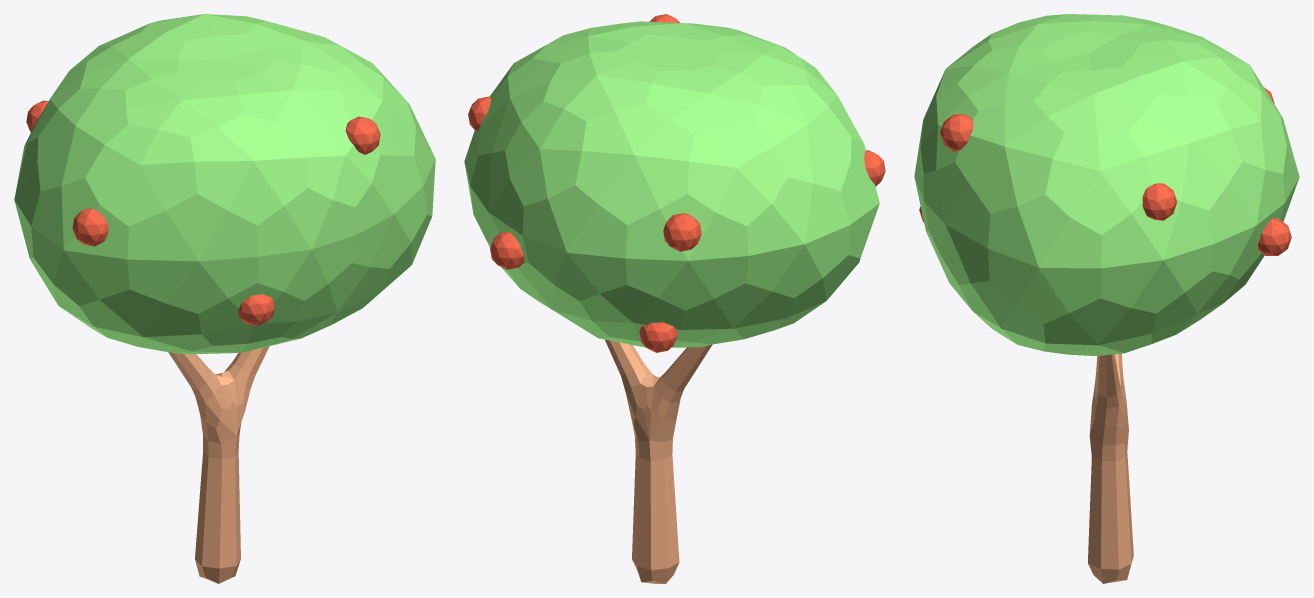
File: tree13.gltf
3 views of the same model, side by side, from view 1: azimuth 30°, elevation 25°; view 2: azimuth 150°, elevation 25°; view 3: azimuth 270°, elevation 25° (orthographic).
Parts seen in each view (by area): view 1: Icosphere, Cube, Icosphere.003, Icosphere.002, Icosphere.004; view 2: Icosphere, Cube, Icosphere.008, Icosphere.005, Icosphere.006, Icosphere.003; view 3: Icosphere, Cube, Icosphere.009, Icosphere.005, Icosphere.002.
Part boxes in pixels (x1,y1,x2,y2): Icosphere: (14, 14, 435, 354); Cube: (168, 346, 269, 583); Icosphere.003: (72, 208, 108, 246); Icosphere.002: (345, 116, 380, 154); Icosphere.004: (238, 294, 274, 325); Icosphere: (464, 21, 879, 347); Cube: (605, 339, 712, 583); Icosphere.008: (663, 213, 701, 251); Icosphere.005: (490, 232, 524, 269); Icosphere.006: (639, 322, 677, 352); Icosphere.003: (864, 150, 885, 186); Icosphere: (914, 14, 1299, 355); Cube: (1088, 353, 1133, 583); Icosphere.009: (1142, 183, 1176, 220); Icosphere.005: (1258, 218, 1291, 255); Icosphere.002: (940, 114, 973, 151).
Size of the model in its own units: 5.85 by 8.02 by 5.26.
